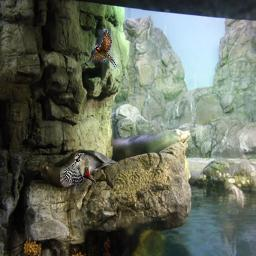Swallow: (84, 29, 117, 69)
Woodpecker: (60, 153, 96, 193)
